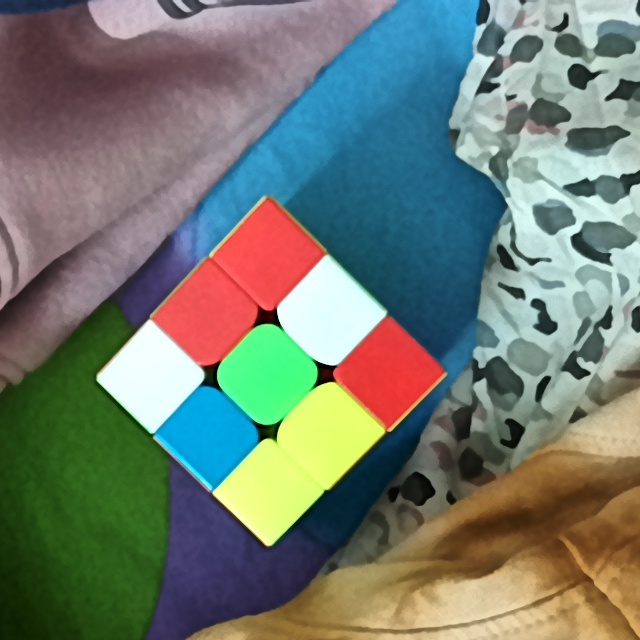tile: (240, 346, 295, 405), (302, 285, 356, 345), (237, 231, 294, 285), (183, 285, 234, 344), (302, 404, 356, 459), (123, 350, 177, 405), (365, 343, 417, 399), (243, 467, 297, 516), (184, 409, 234, 459)
